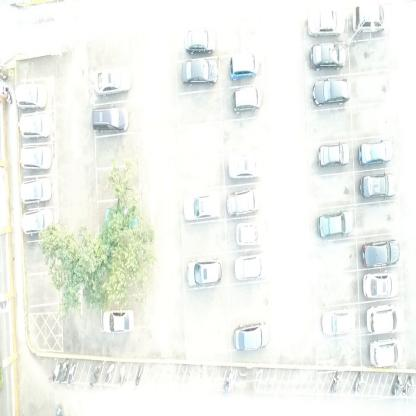car: (226, 184, 264, 218), (94, 65, 132, 98), (233, 319, 270, 352), (182, 190, 220, 222), (352, 2, 388, 34), (91, 104, 129, 134), (185, 255, 223, 285), (180, 58, 218, 88), (307, 8, 345, 38), (312, 77, 350, 107), (365, 302, 403, 332), (309, 43, 348, 72), (361, 238, 400, 267), (368, 336, 403, 368), (317, 209, 354, 239), (228, 150, 265, 180), (234, 251, 269, 282), (359, 172, 397, 199), (321, 306, 356, 335), (232, 83, 263, 115), (361, 272, 399, 298), (182, 26, 216, 54), (317, 141, 350, 169), (14, 82, 48, 109), (18, 113, 52, 140), (20, 209, 54, 236), (358, 140, 393, 166), (229, 50, 260, 79), (19, 145, 52, 172), (102, 309, 135, 335), (236, 220, 268, 246), (19, 179, 53, 203)
